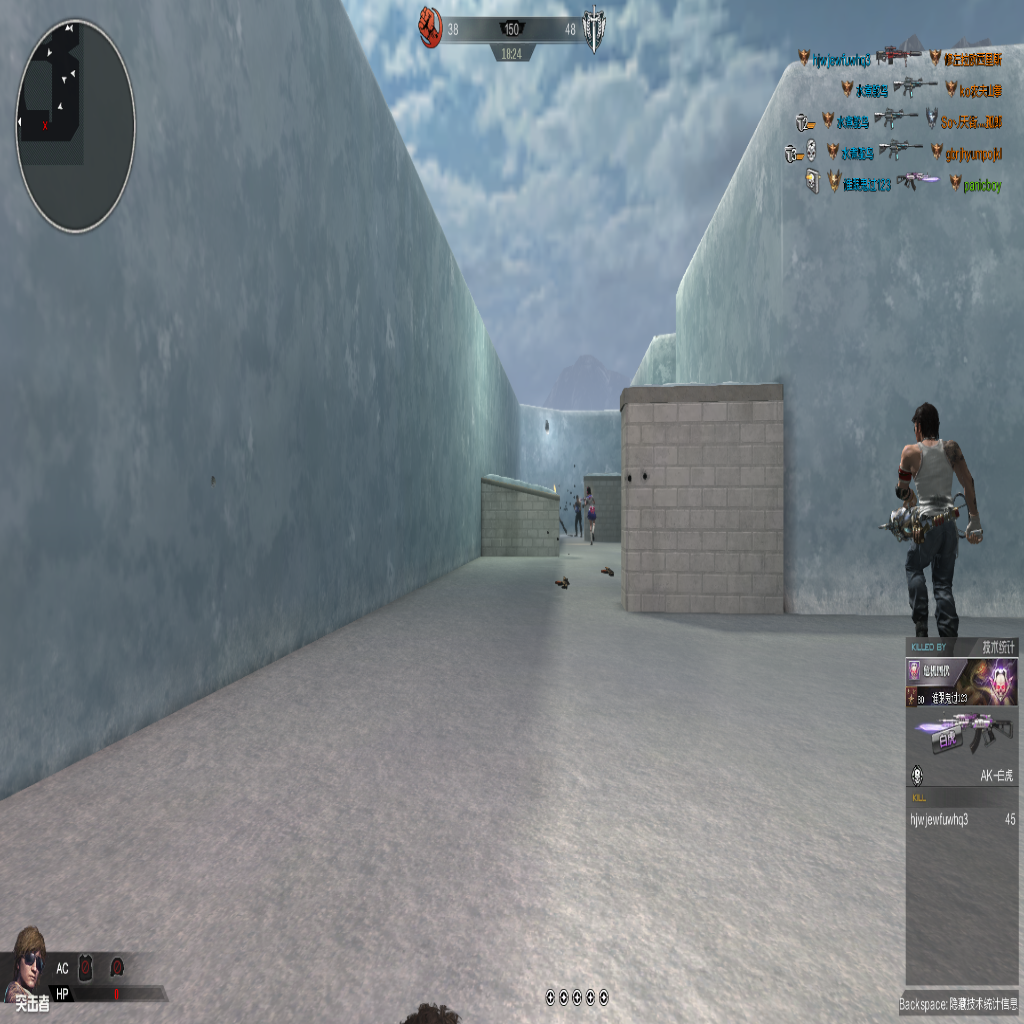ct: (573, 495, 582, 538)
tt: (585, 488, 596, 544)
